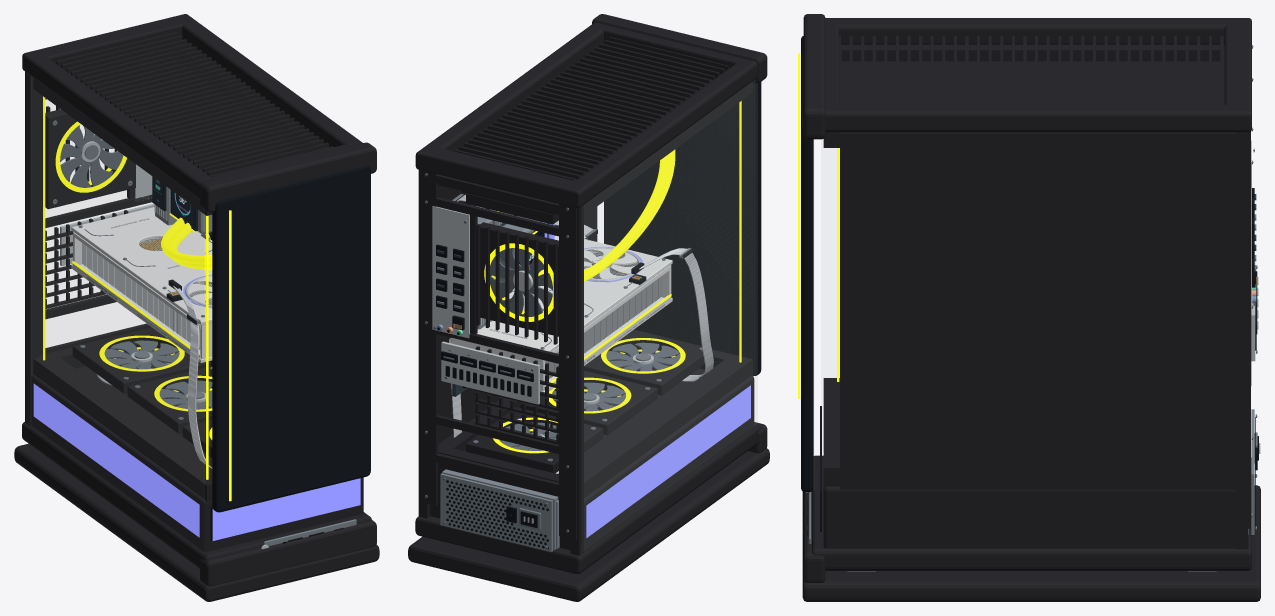
File: showcase92-ember.glb
3 views of the same model, side by side, from view 1: azimuth 30°, elevation 25°; view 2: azimuth 150°, elevation 25°; view 3: azimuth 270°, elevation 25° (orthographic). The views are drawn at different scales.
Visible parts, largest first — view 1: s83-surface-4cfc3cb1-9856-4fb4-a152-f14a387ba0e1, s83-surface-f70483bc-ff7a-484f-bfb0-9f1615159147, s83-surface-82607e57-f503-4971-a1fd-5ad32b08bc5e, s83-fan-11, s83-fan-8, s83-fan-9, s83-surface-80b873ba-02c8-462f-bae4-55b5621b8a87; view 2: s83-surface-4cfc3cb1-9856-4fb4-a152-f14a387ba0e1, s83-surface-8caa669d-0b8e-45da-9e77-59022fc3102a, s83-surface-f70483bc-ff7a-484f-bfb0-9f1615159147, s83-surface-82607e57-f503-4971-a1fd-5ad32b08bc5e, s83-fan-11, s83-fan-10, s83-fan-4, s83-fan-9; view 3: s83-surface-4cfc3cb1-9856-4fb4-a152-f14a387ba0e1, s83-surface-82607e57-f503-4971-a1fd-5ad32b08bc5e.
Part boxes in pixels (left/top/right/bottom): s83-surface-4cfc3cb1-9856-4fb4-a152-f14a387ba0e1: left=14, top=14, right=379, bottom=601; s83-surface-f70483bc-ff7a-484f-bfb0-9f1615159147: left=33, top=274, right=360, bottom=540; s83-surface-82607e57-f503-4971-a1fd-5ad32b08bc5e: left=43, top=96, right=231, bottom=501; s83-fan-11: left=60, top=125, right=123, bottom=187; s83-fan-8: left=104, top=340, right=179, bottom=371; s83-fan-9: left=159, top=380, right=212, bottom=411; s83-surface-80b873ba-02c8-462f-bae4-55b5621b8a87: left=171, top=190, right=194, bottom=228; s83-surface-4cfc3cb1-9856-4fb4-a152-f14a387ba0e1: left=408, top=14, right=769, bottom=601; s83-surface-8caa669d-0b8e-45da-9e77-59022fc3102a: left=604, top=83, right=755, bottom=375; s83-surface-f70483bc-ff7a-484f-bfb0-9f1615159147: left=542, top=222, right=750, bottom=537; s83-surface-82607e57-f503-4971-a1fd-5ad32b08bc5e: left=484, top=101, right=741, bottom=453; s83-fan-11: left=490, top=248, right=552, bottom=316; s83-fan-10: left=606, top=342, right=680, bottom=373; s83-fan-4: left=584, top=248, right=638, bottom=282; s83-fan-9: left=552, top=382, right=625, bottom=413; s83-surface-4cfc3cb1-9856-4fb4-a152-f14a387ba0e1: left=801, top=14, right=1260, bottom=601; s83-surface-82607e57-f503-4971-a1fd-5ad32b08bc5e: left=798, top=53, right=839, bottom=398.
Bounding box in the file's own units: 1.32 × 3 × 2.56.
Materials: 23 (22 with a texture image).
